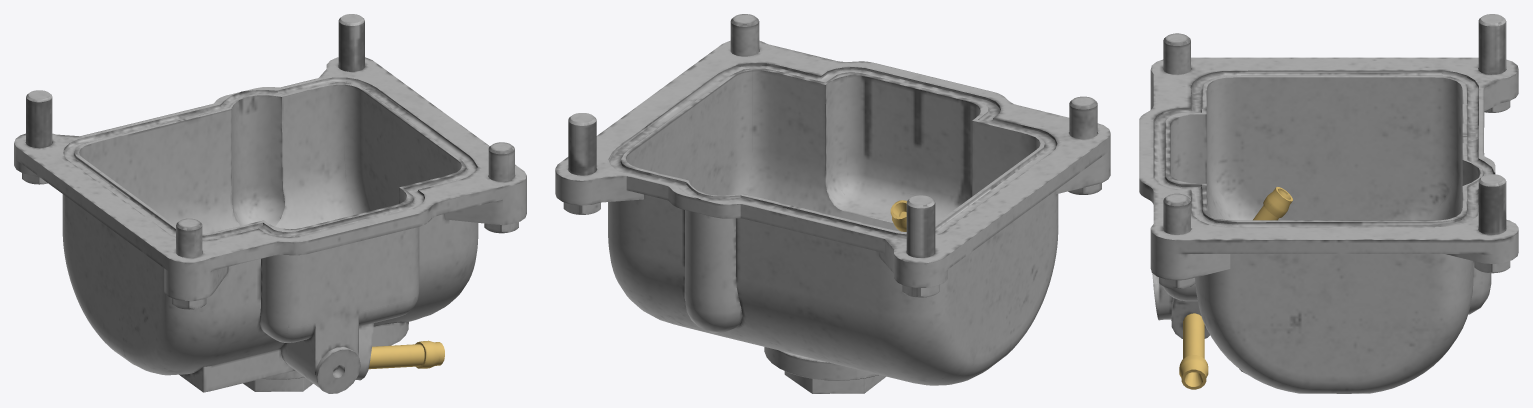
File: floatChamber.glb
3 renders of one model, left to right at view 1: azimuth 30°, elevation 25°; view 2: azimuth 150°, elevation 25°; view 3: azimuth 270°, elevation 25°, orthographic. The views are drawn at different scales.
Visible parts, largest first — view 1: floatChamber; view 2: floatChamber; view 3: floatChamber.
Boxes of the visible parts, box(x1,y1,x2,y2) form: floatChamber: box(14, 14, 526, 393); floatChamber: box(555, 14, 1110, 393); floatChamber: box(1139, 14, 1518, 393).
Bounding box in the file's own units: 5.07 × 3.52 × 4.46.
1 material, 1 textured.
